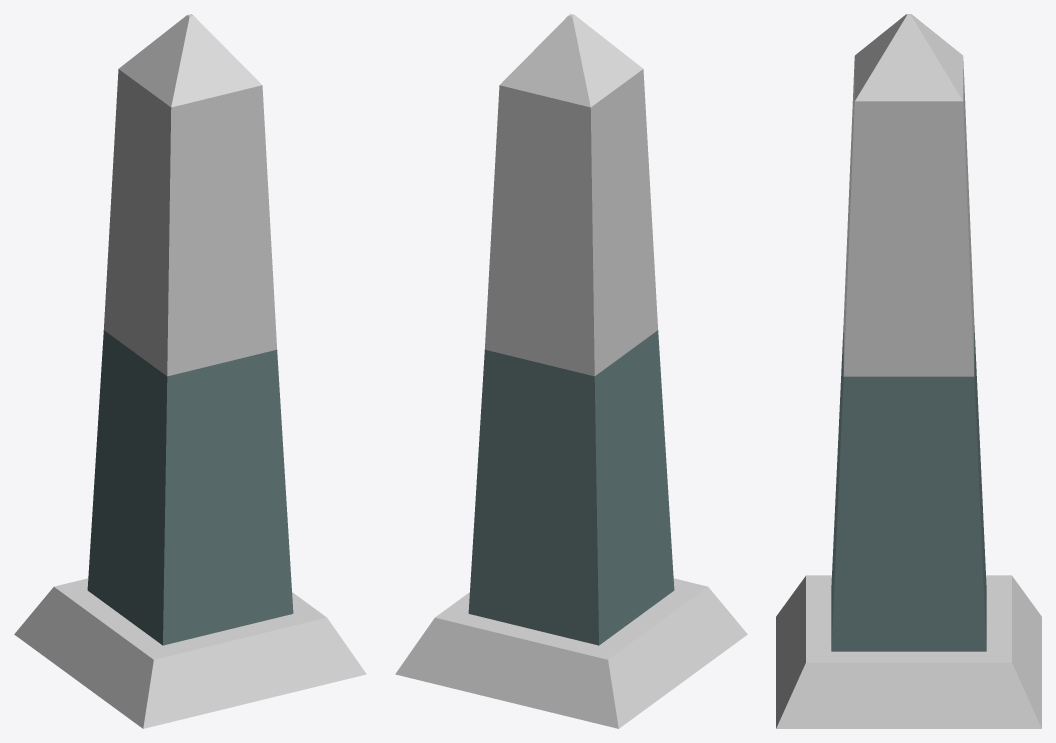
The model's file is monument.glb.
3 views of the same model, side by side, from view 1: azimuth 30°, elevation 25°; view 2: azimuth 150°, elevation 25°; view 3: azimuth 270°, elevation 25° (orthographic). The views are drawn at different scales.
Parts seen in each view (by area): view 1: Cube; view 2: Cube; view 3: Cube.
Part boxes in pixels (x1,y1,x2,y2): Cube: (14,14,366,728); Cube: (395,14,747,728); Cube: (776,14,1041,728).
Size of the model in its own units: 2 by 5.46 by 2.
